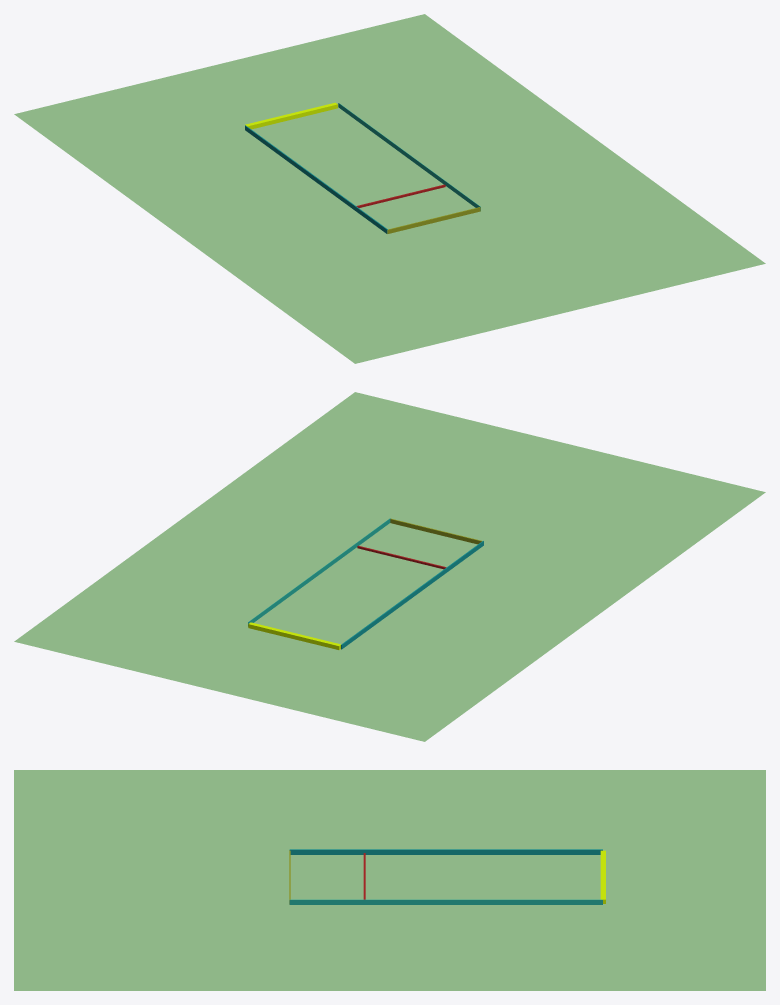
Rendered from myMap.dae.
The picture shows the model from 3 angles, top to bottom: view 1: azimuth 30°, elevation 25°; view 2: azimuth 150°, elevation 25°; view 3: azimuth 270°, elevation 25°; orthographic projection. The views are drawn at different scales.
Parts seen in each view (by area): view 1: Plane, Box3, Box4, Box2; view 2: Plane, Box3, Box4, Box2; view 3: Plane, Box4, Box3.
Boxes of the visible parts, x1=… form: Plane: x1=14, y1=14, x2=765, y2=363; Box3: x1=245, y1=125, x2=387, y2=233; Box4: x1=338, y1=103, x2=480, y2=210; Box2: x1=245, y1=102, x2=337, y2=129; Plane: x1=14, y1=392, x2=765, y2=741; Box3: x1=341, y1=541, x2=483, y2=649; Box4: x1=248, y1=518, x2=390, y2=626; Box2: x1=248, y1=622, x2=340, y2=649; Plane: x1=14, y1=770, x2=765, y2=990; Box4: x1=289, y1=899, x2=602, y2=904; Box3: x1=289, y1=849, x2=602, y2=854.
Bounding box in the file's own units: 14.73 × 0.3054 × 21.18.
